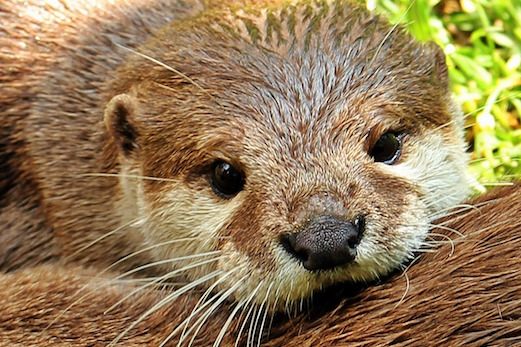otter: (98, 8, 489, 330)
